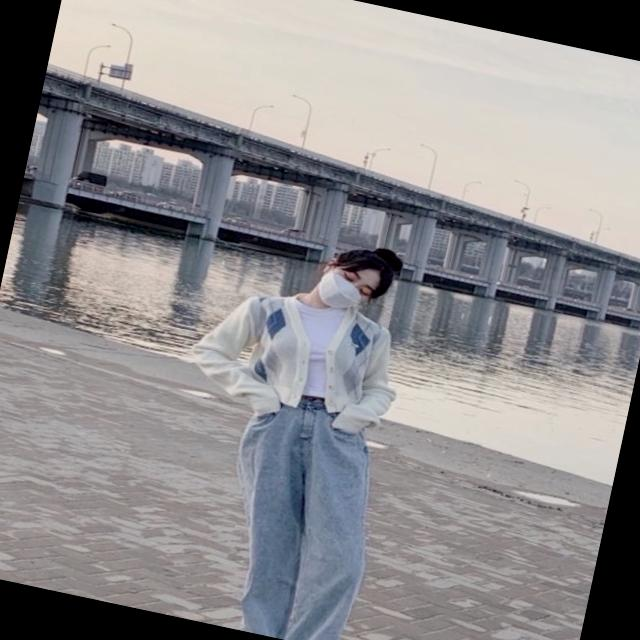cardigan: (182, 271, 411, 441)
denimpants: (199, 385, 399, 640)
